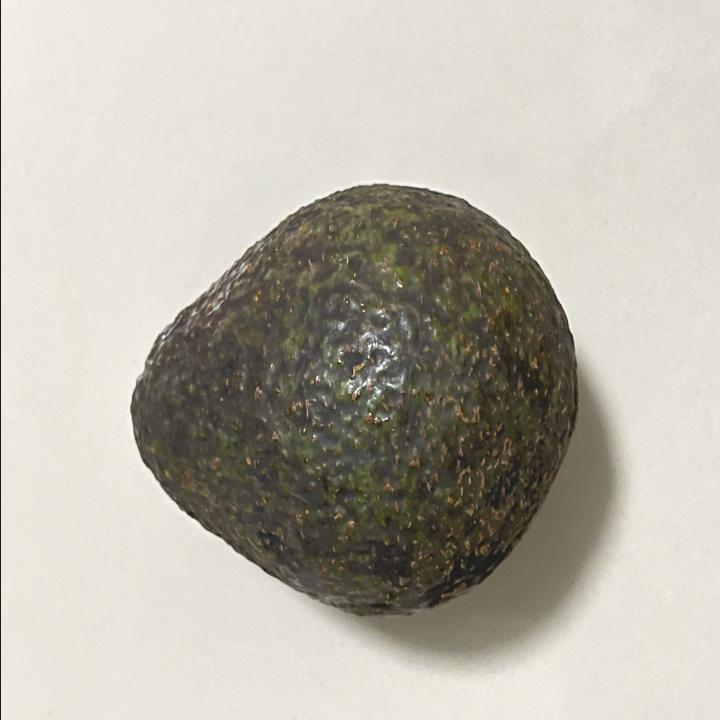Level1: (109, 173, 604, 649)
